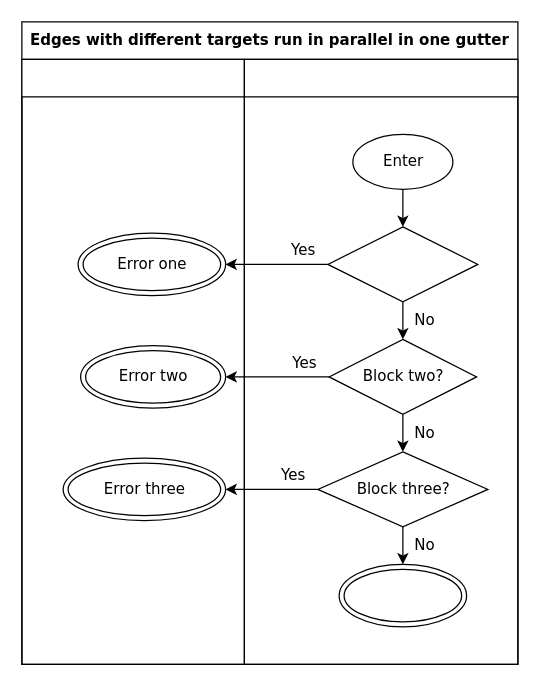
This 540x686 diagram has some shape labels left out. Here are the shapes that lost their labels. From the top down, the box of each, then its label:
(327, 226, 478, 302): Block one?
(21, 58, 244, 664): Lane A
(243, 58, 518, 664): Lane B
(338, 563, 467, 627): All pass
